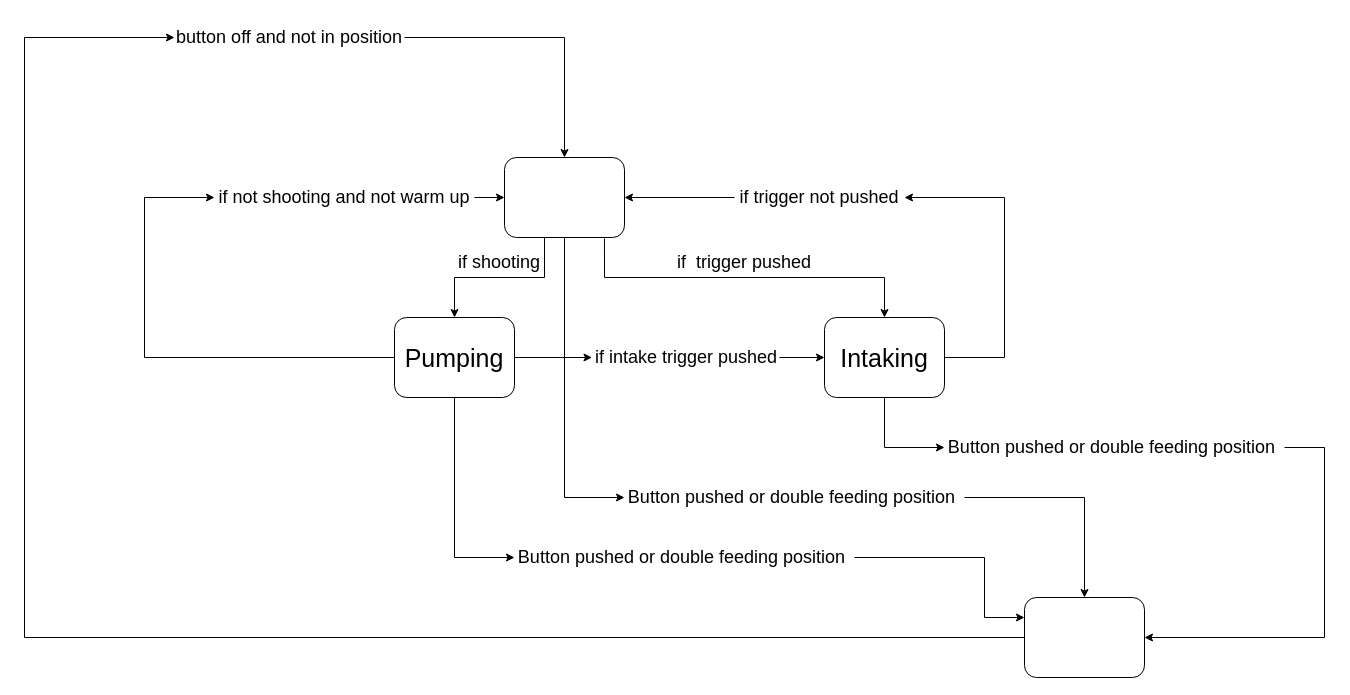
Some shapes in this 1350 by 695 pixel diagram are drawn without their labels. Each missing label, with the centre of its shape:
"Idle" goes at (x=564, y=197).
"Outtaking" goes at (x=1084, y=637).
